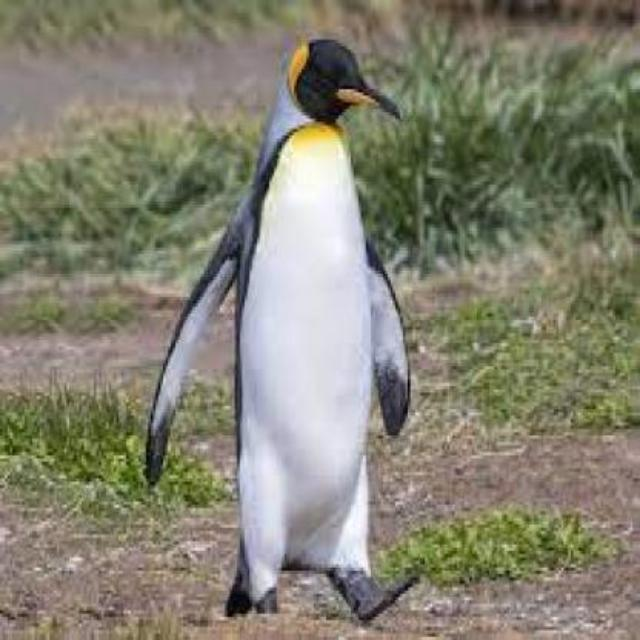penguin: (145, 39, 425, 620)
